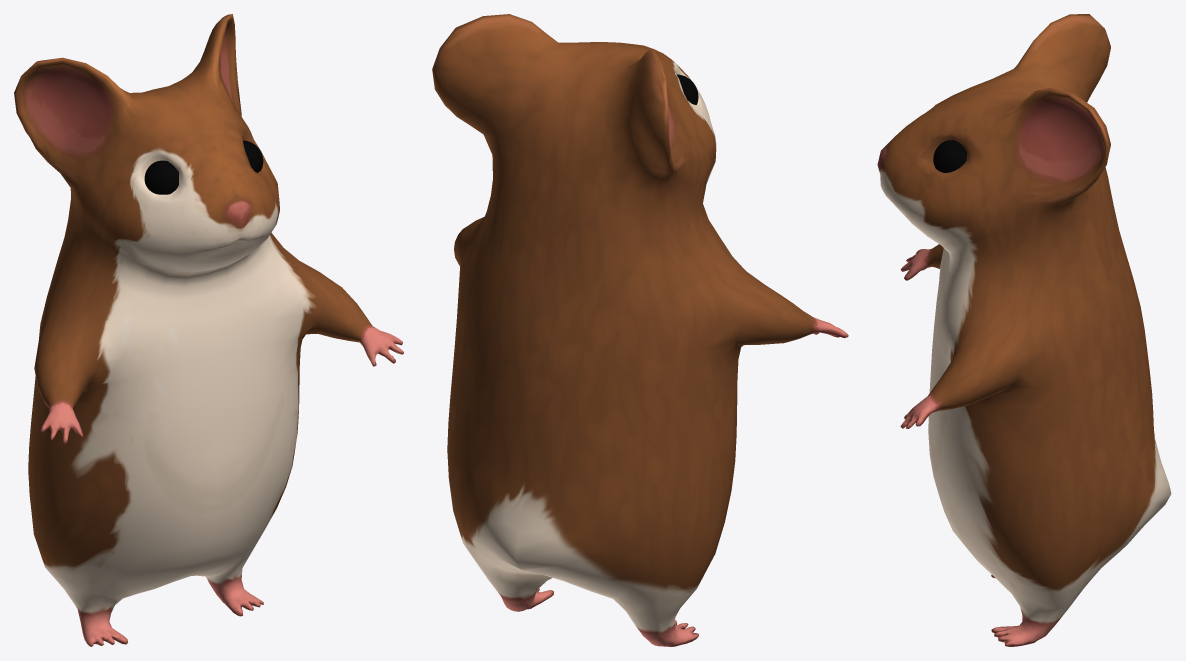
Rendered from Hamster.fbx.
The picture shows the model from 3 angles, left to right: view 1: azimuth 30°, elevation 25°; view 2: azimuth 150°, elevation 25°; view 3: azimuth 270°, elevation 25°; orthographic projection. The views are drawn at different scales.
Parts seen in each view (by area): view 1: Retopology; view 2: Retopology; view 3: Retopology.
Boxes of the visible parts, x1,y1,x2,y2 form: Retopology: (14,14,403,646); Retopology: (432,14,848,646); Retopology: (877,14,1171,646).
Bounding box in the file's own units: 81.98 × 122 × 58.91.
Materials: 2 (1 with a texture image).
